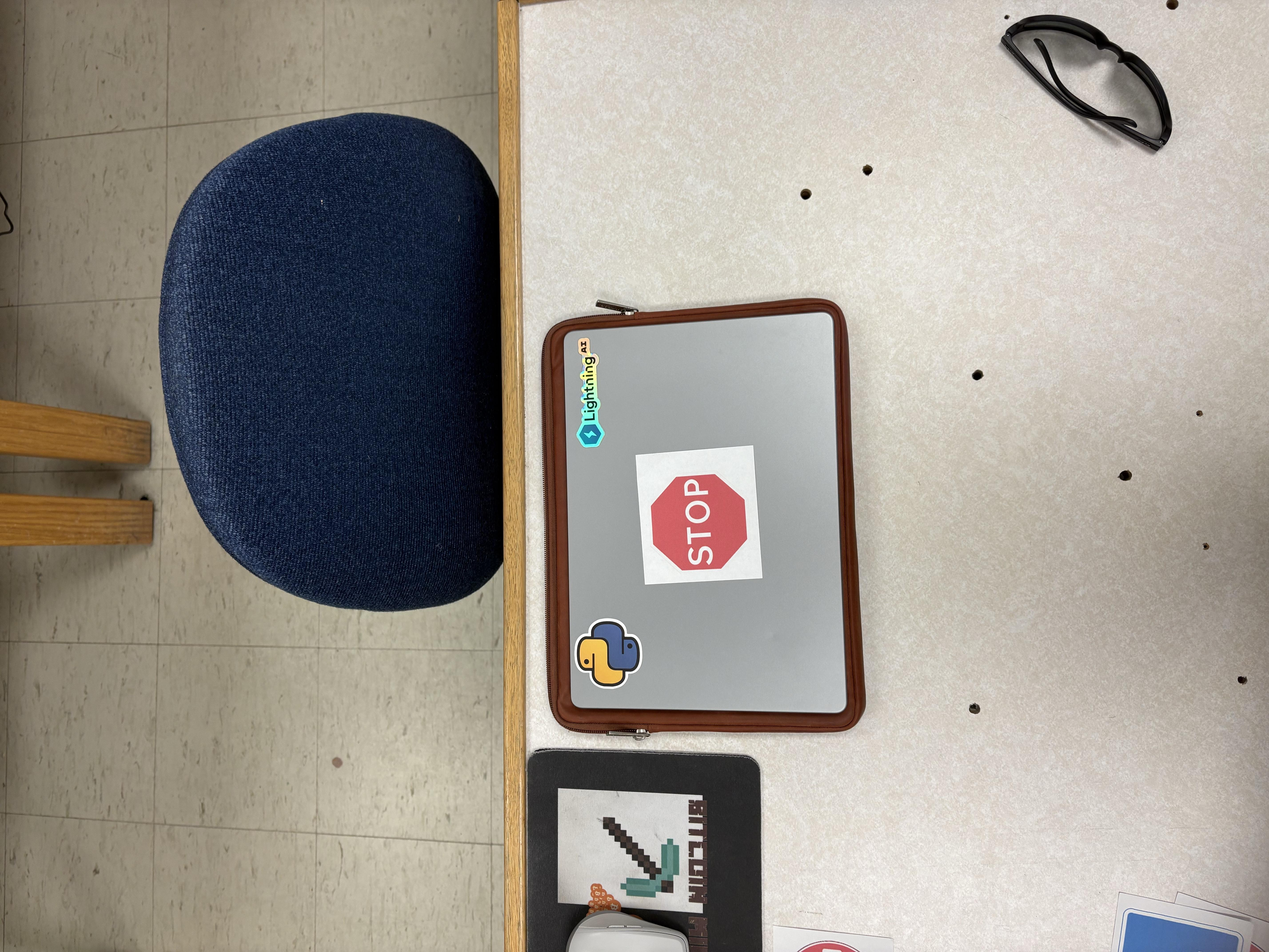Stop: (635, 440, 770, 585)
